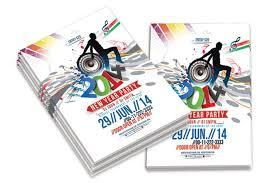Printing industry: (15, 11, 274, 183)
